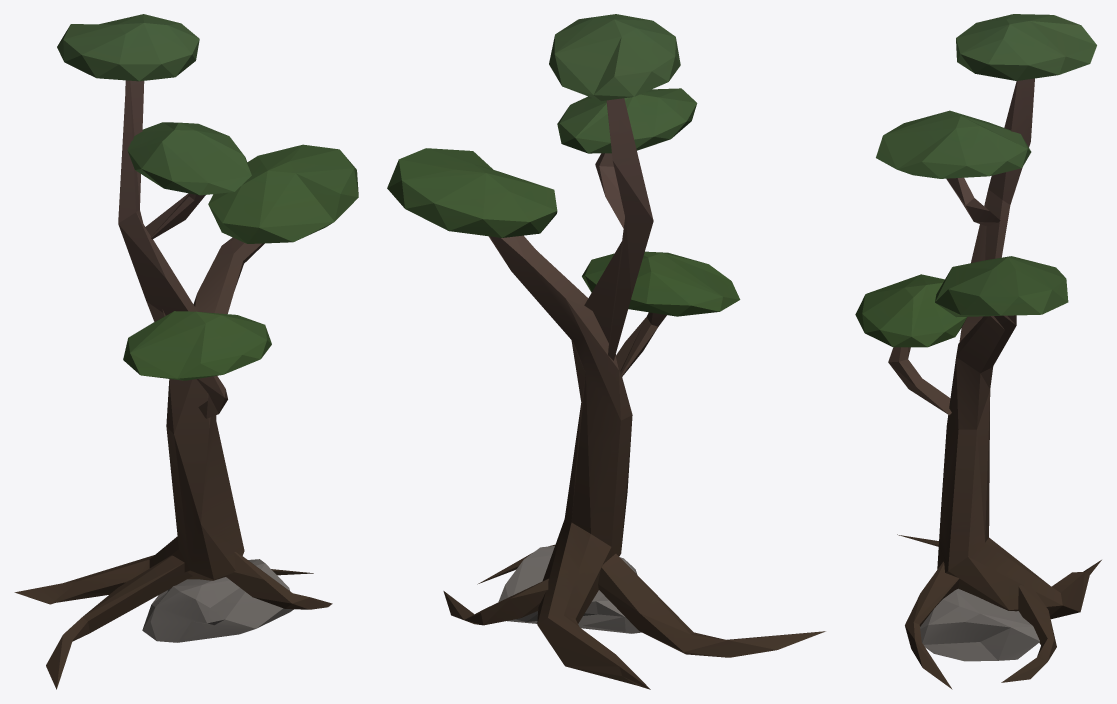
Rendered from tree02.FBX.
The picture shows the model from 3 angles, left to right: view 1: azimuth 30°, elevation 25°; view 2: azimuth 150°, elevation 25°; view 3: azimuth 270°, elevation 25°; orthographic projection. The views are drawn at different scales.
Parts seen in each view (by area): view 1: Tree_07; view 2: Tree_07; view 3: Tree_07.
Boxes of the visible parts, bbox=[...] form: Tree_07: bbox=[14, 14, 358, 689]; Tree_07: bbox=[387, 14, 825, 689]; Tree_07: bbox=[855, 14, 1101, 689].
Bounding box in the file's own units: 899 × 554 × 1466.
